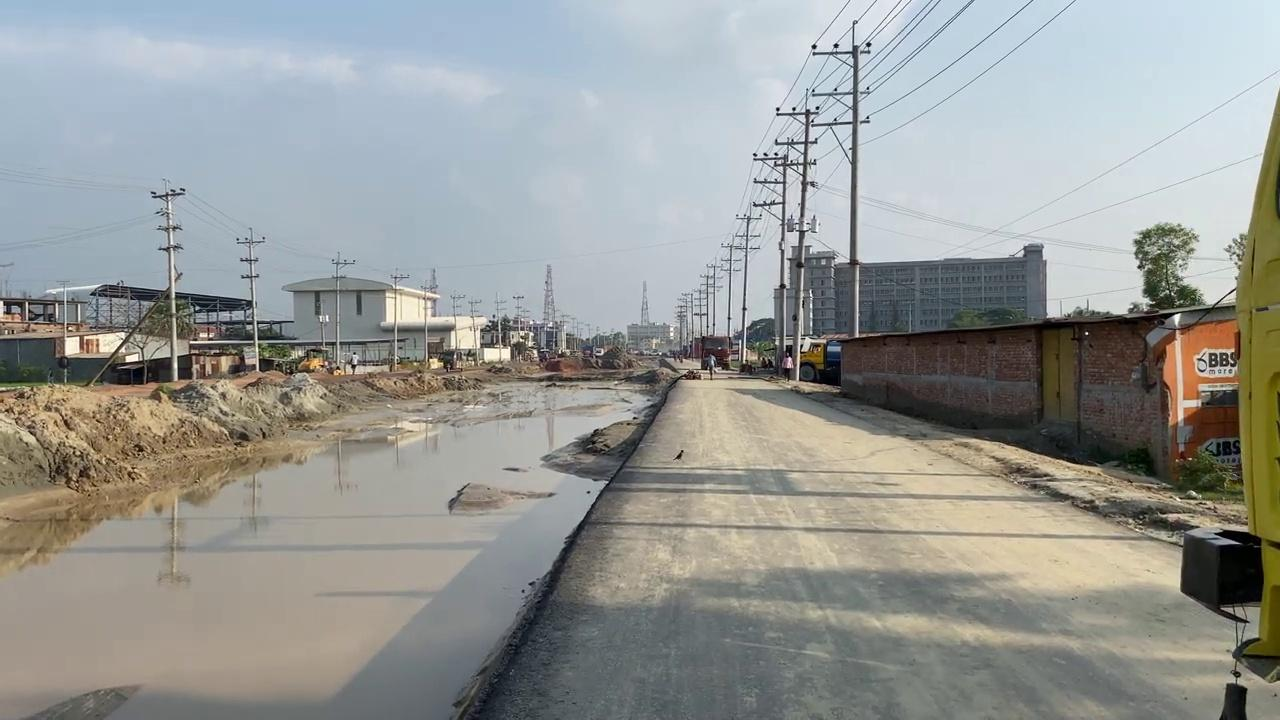Pole: (150, 179, 186, 381), (235, 226, 264, 371), (389, 270, 409, 370)
Rickshaw: (459, 357, 1267, 718)
Sidewalk: (1, 374, 662, 718)
Traffic-sign: (1131, 220, 1204, 310)
Tree: (1179, 85, 1279, 718), (798, 336, 842, 384), (294, 347, 343, 374), (696, 334, 731, 369)
Upstairs: (838, 306, 1239, 483)
